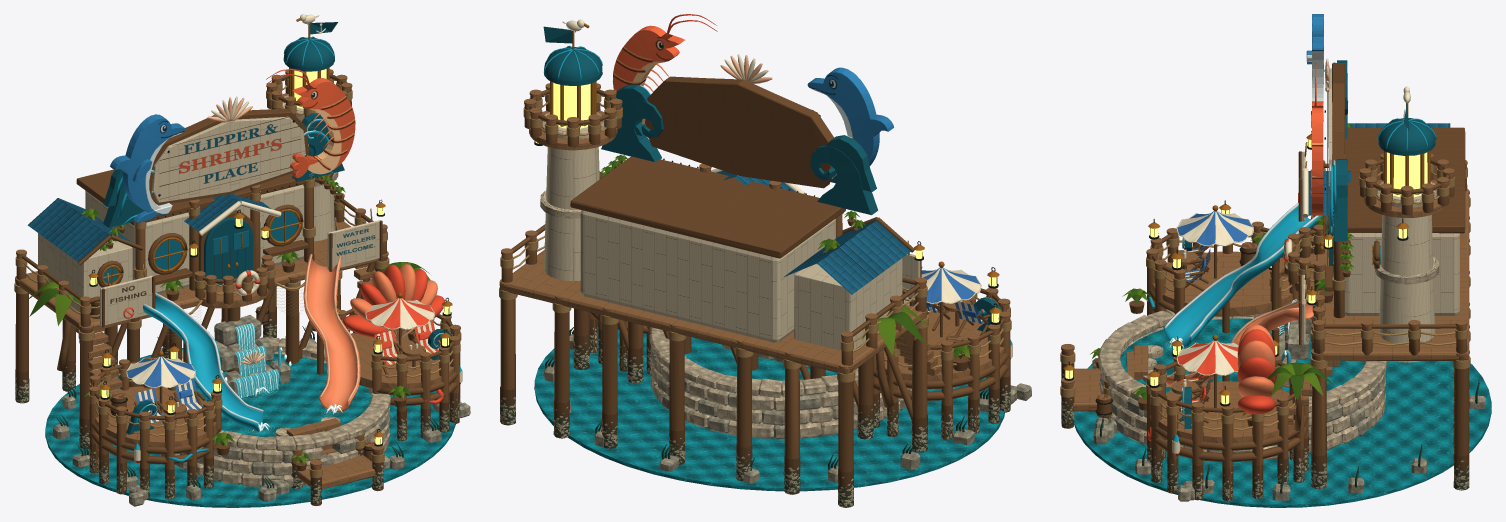
File: flipper-shrimp-ca-light.glb
3 renders of one model, left to right at view 1: azimuth 30°, elevation 25°; view 2: azimuth 150°, elevation 25°; view 3: azimuth 270°, elevation 25°, orthographic. The views are drawn at different scales.
Visible parts, largest first — view 1: Flipper and Shrimp C+A; view 2: Flipper and Shrimp C+A; view 3: Flipper and Shrimp C+A.
Part boxes in pixels (x1,y1,x2,y2): Flipper and Shrimp C+A: (14, 14, 470, 507); Flipper and Shrimp C+A: (499, 14, 1031, 507); Flipper and Shrimp C+A: (1060, 14, 1491, 507).
Size of the model in its own units: 0.8603 by 0.7671 by 0.7817.
34 materials, 17 textured.
